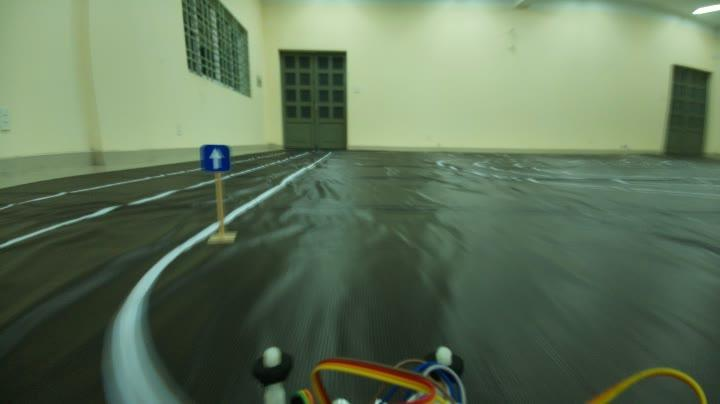onewayroad: (190, 139, 236, 175)
